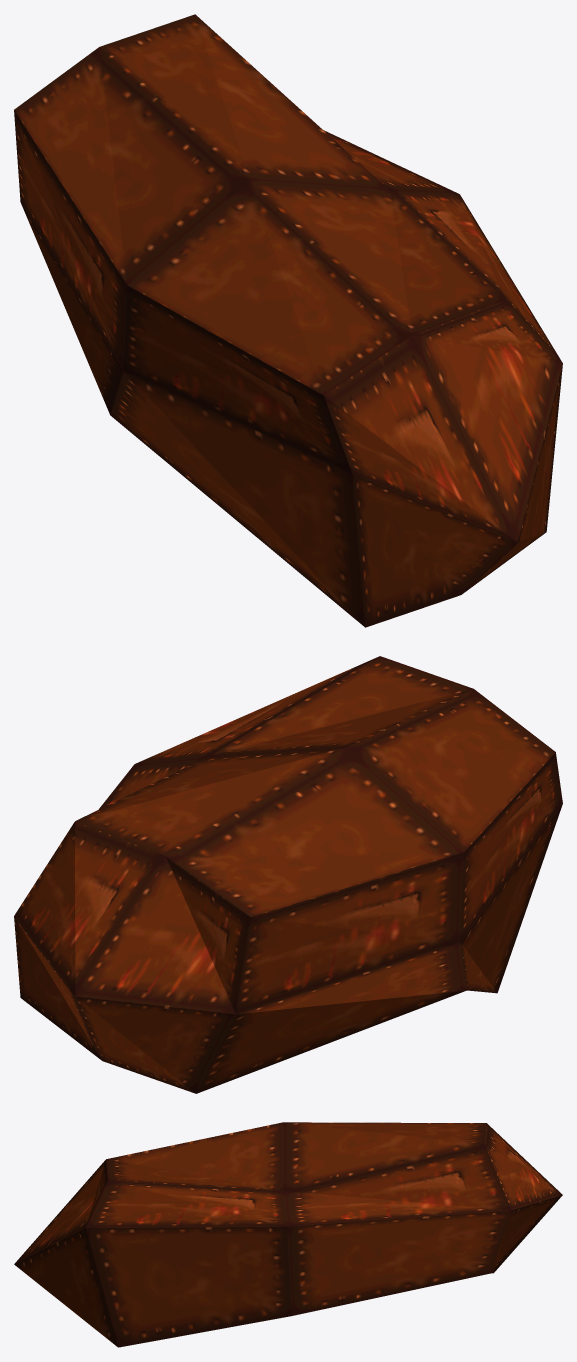
Rendered from ZeppelinHalleTeil_Wrack3_843.glb.
The picture shows the model from 3 angles, top to bottom: view 1: azimuth 30°, elevation 25°; view 2: azimuth 150°, elevation 25°; view 3: azimuth 270°, elevation 25°; orthographic projection. The views are drawn at different scales.
Parts seen in each view (by area): view 1: pCubeShape6; view 2: pCubeShape6; view 3: pCubeShape6.
Boxes of the visible parts, x1,y1,x2,y2 form: pCubeShape6: (14,14,562,627); pCubeShape6: (14,656,562,1093); pCubeShape6: (14,1122,562,1347).
Bounding box in the file's own units: 1.5 × 1.51 × 3.42.
Materials: 1 (1 with a texture image).
